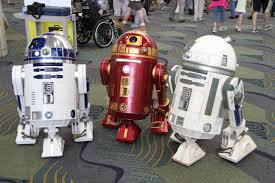r2d2: (12, 32, 94, 158)
